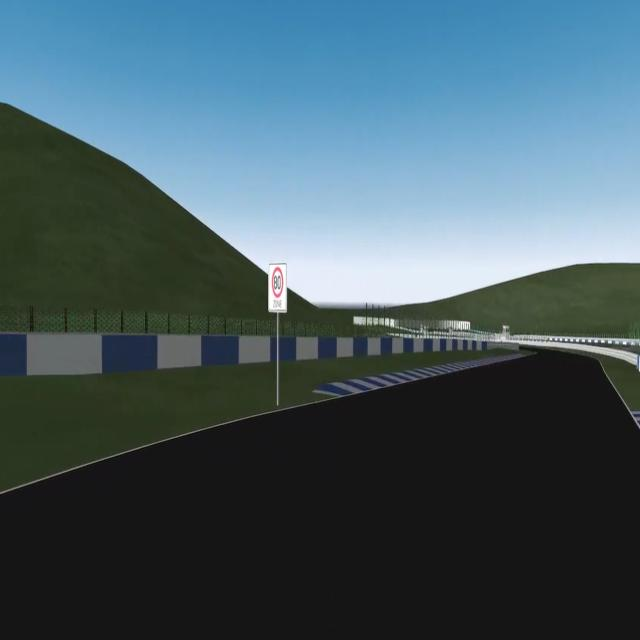Speed Limit -80-: (274, 275, 281, 290)
